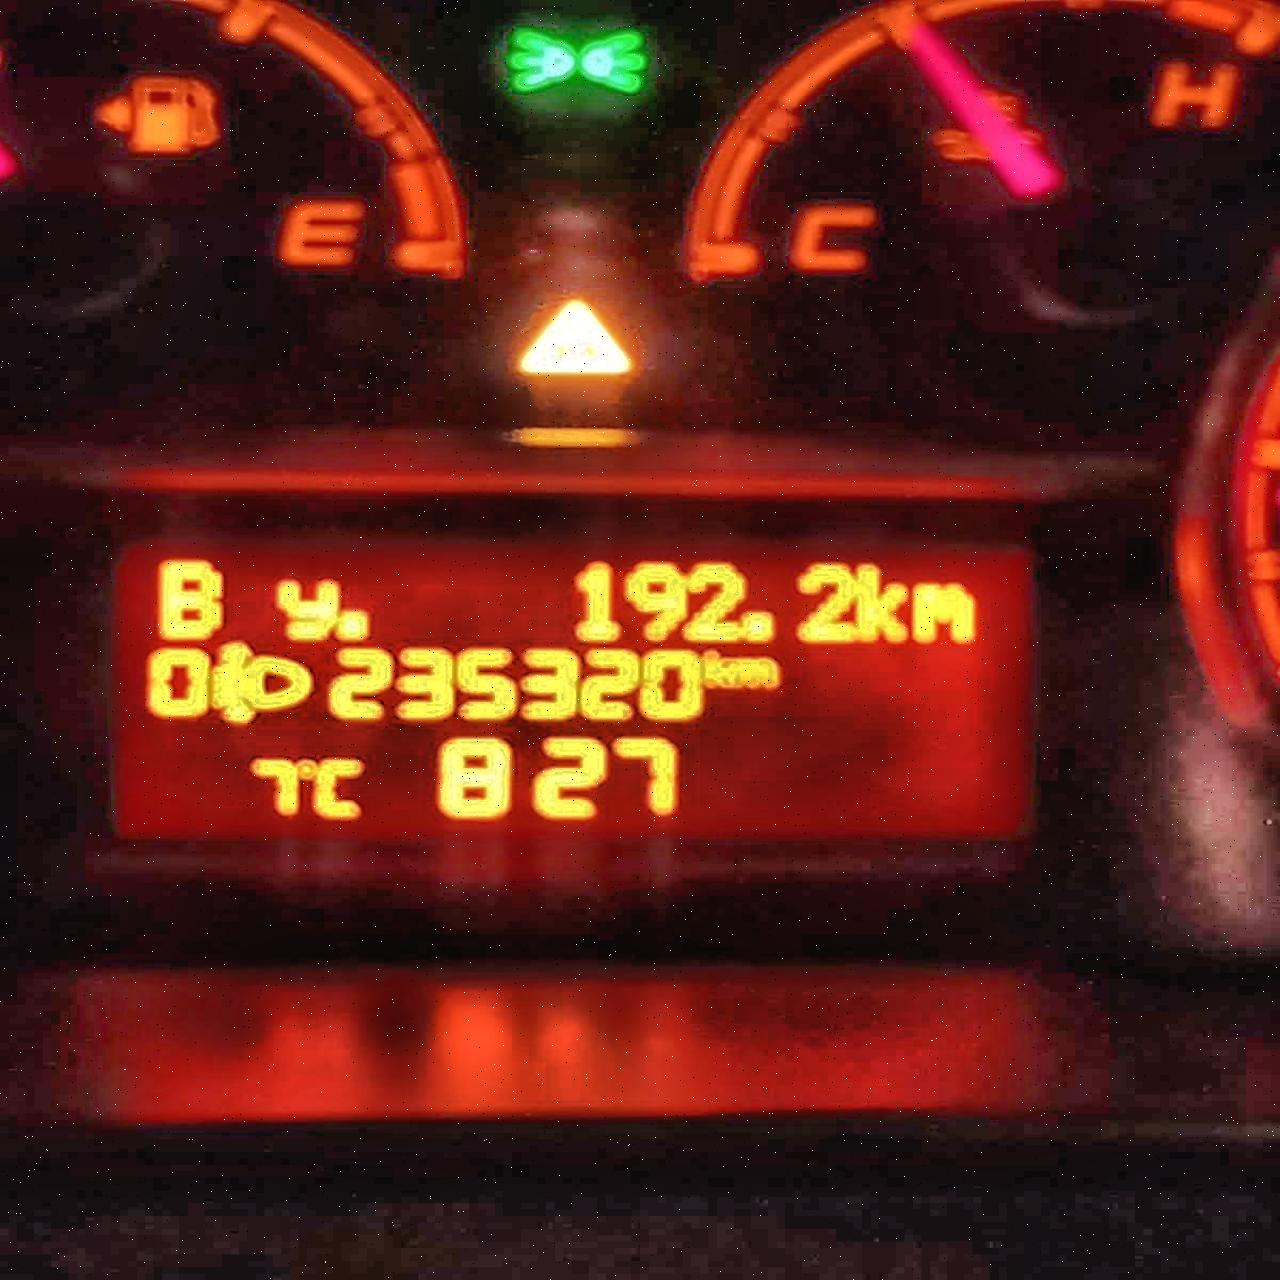-: (741, 608, 782, 642), (335, 607, 373, 642)
0: (638, 647, 707, 724), (141, 644, 210, 721)
1: (567, 557, 626, 644)
2: (526, 733, 611, 822), (792, 558, 859, 645), (680, 559, 747, 642), (325, 646, 395, 724), (579, 646, 641, 722)
3: (518, 644, 580, 724), (394, 644, 455, 722)
5: (452, 645, 518, 722)
7: (608, 733, 682, 818), (246, 754, 301, 821)
8: (430, 734, 516, 821)
9: (624, 557, 690, 645)
X: (154, 557, 225, 641), (911, 577, 978, 646), (856, 561, 910, 645), (272, 576, 339, 642), (309, 755, 370, 822), (737, 648, 781, 690), (700, 647, 737, 690)
odometer: (100, 525, 1042, 853)
